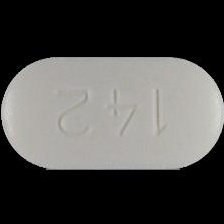51655-551: (0, 0, 224, 224)
